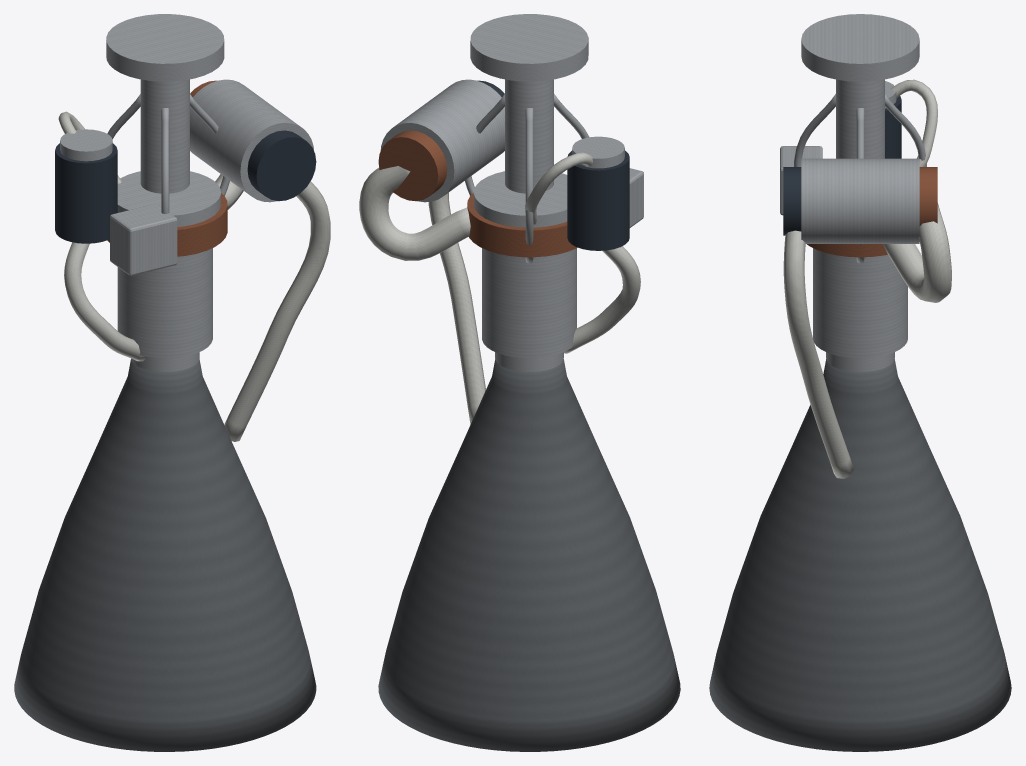
Rendered from merlin_1d.glb.
3 renders of one model, left to right at view 1: azimuth 30°, elevation 25°; view 2: azimuth 150°, elevation 25°; view 3: azimuth 270°, elevation 25°, orthographic.
Parts seen in each view (by area): view 1: Merlin_Nozzle, Thrust_Chamber, Mount_Flange.014, Main_Turbopump, Fuel_Return, GasGenerator, Gimbal_Stem.014, Control_Valve, Pump_TurbineEnd, Injector_Upper, Generator_Return, Injector_Flange.012 (+3 smaller); view 2: Merlin_Nozzle, Thrust_Chamber, Mount_Flange.014, Main_Turbopump, GasGenerator, Oxidizer_Feed.002, Gimbal_Stem.014, Fuel_Return, Injector_Upper, Pump_FeedEnd, Injector_Flange.012, Generator_Return (+5 smaller); view 3: Merlin_Nozzle, Main_Turbopump, Thrust_Chamber, Mount_Flange.014, Fuel_Return, Oxidizer_Feed.002, Gimbal_Stem.014, Pump_TurbineEnd, Pressurization_Line, Pump_FeedEnd, Throat_Jacket, Injector_Flange.012 (+5 smaller).
Boxes of the visible parts, x1,y1,x2,y2 form: Merlin_Nozzle: (14,359,316,751); Thrust_Chamber: (117,248,212,358); Mount_Flange.014: (106,14,224,81); Main_Turbopump: (190,79,313,202); Fuel_Return: (224,181,330,441); GasGenerator: (55,143,117,243); Gimbal_Stem.014: (140,79,189,193); Control_Valve: (110,204,177,275); Pump_TurbineEnd: (247,130,316,201); Injector_Upper: (117,171,220,226); Generator_Return: (64,242,147,361); Injector_Flange.012: (107,193,227,256); Merlin_Nozzle: (378,359,680,751); Thrust_Chamber: (482,248,576,358); Mount_Flange.014: (470,14,588,81); Main_Turbopump: (380,79,504,202); GasGenerator: (567,150,629,250); Oxidizer_Feed.002: (359,166,470,260); Gimbal_Stem.014: (505,79,553,193); Fuel_Return: (428,192,485,424); Injector_Upper: (473,171,567,227); Pump_FeedEnd: (378,130,447,201); Injector_Flange.012: (467,193,577,257); Generator_Return: (563,246,640,353); Merlin_Nozzle: (709,359,1011,751); Main_Turbopump: (801,158,919,243); Thrust_Chamber: (813,248,907,358); Mount_Flange.014: (801,14,919,81); Fuel_Return: (783,230,853,478); Oxidizer_Feed.002: (883,203,951,302); Gimbal_Stem.014: (836,79,884,158); Pump_TurbineEnd: (783,167,801,235); Pressurization_Line: (890,79,937,166); Pump_FeedEnd: (919,167,937,226); Throat_Jacket: (826,352,894,372); Injector_Flange.012: (807,244,887,257).
Bounding box in the file's own units: 0.9252 × 2.18 × 0.92.
Materials: 5 (4 with a texture image).
